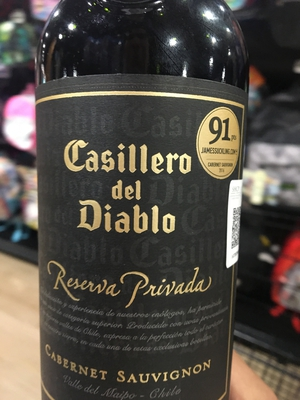casillero del diablo reserva privada cabernet sauvignon: (31, 8, 248, 400)
